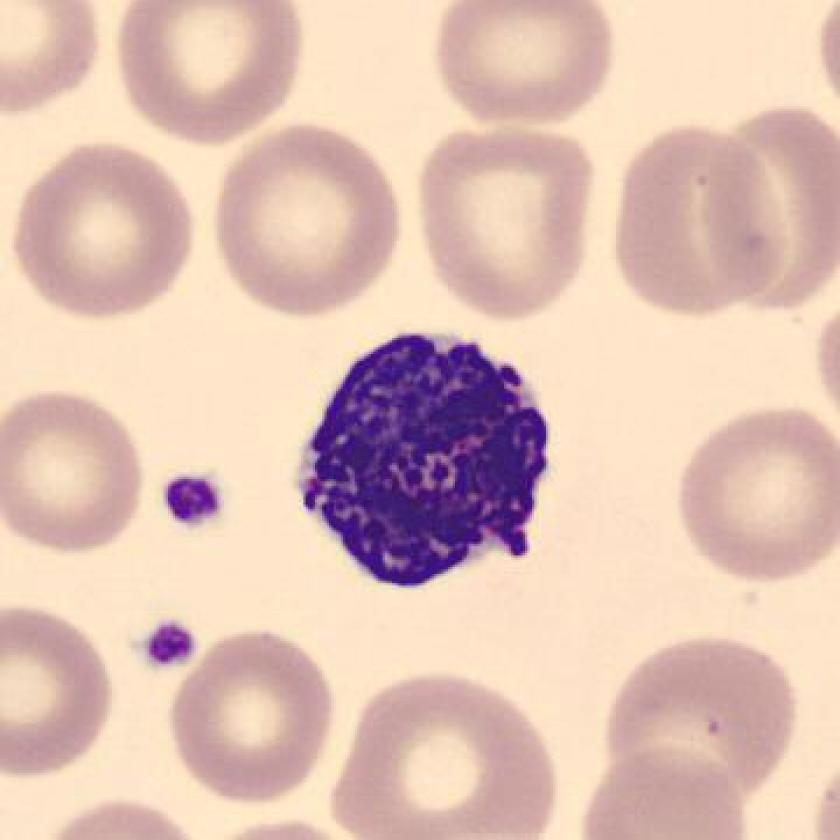basophil: (288, 323, 568, 600)
